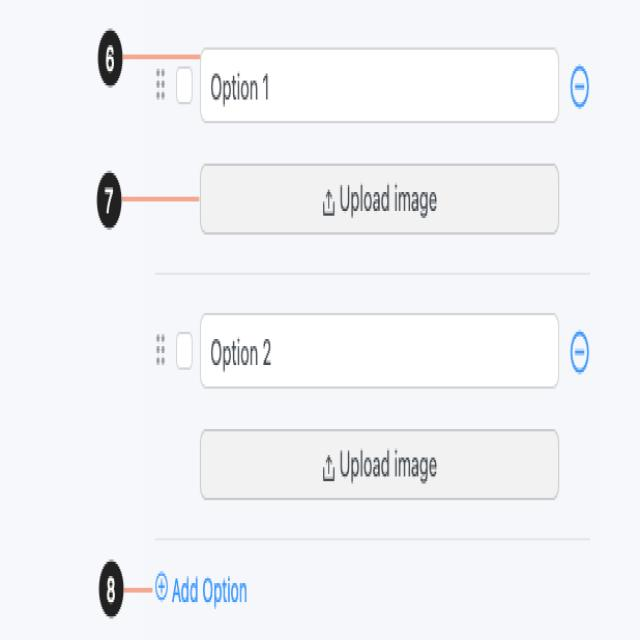Check-box: (153, 42, 572, 136), (168, 313, 197, 387)
Input-field: (195, 151, 564, 258), (198, 305, 563, 407), (194, 419, 563, 510)
navigation: (568, 57, 592, 114), (570, 326, 589, 382), (152, 560, 172, 613)
